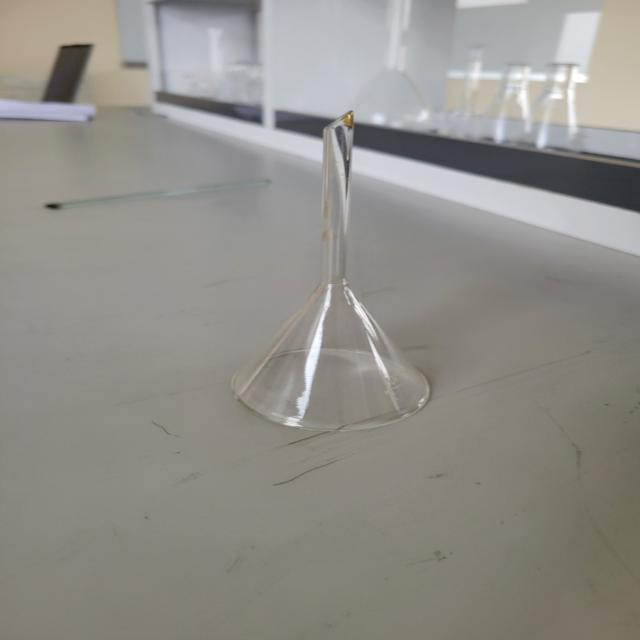Funnel: (208, 99, 472, 464)
